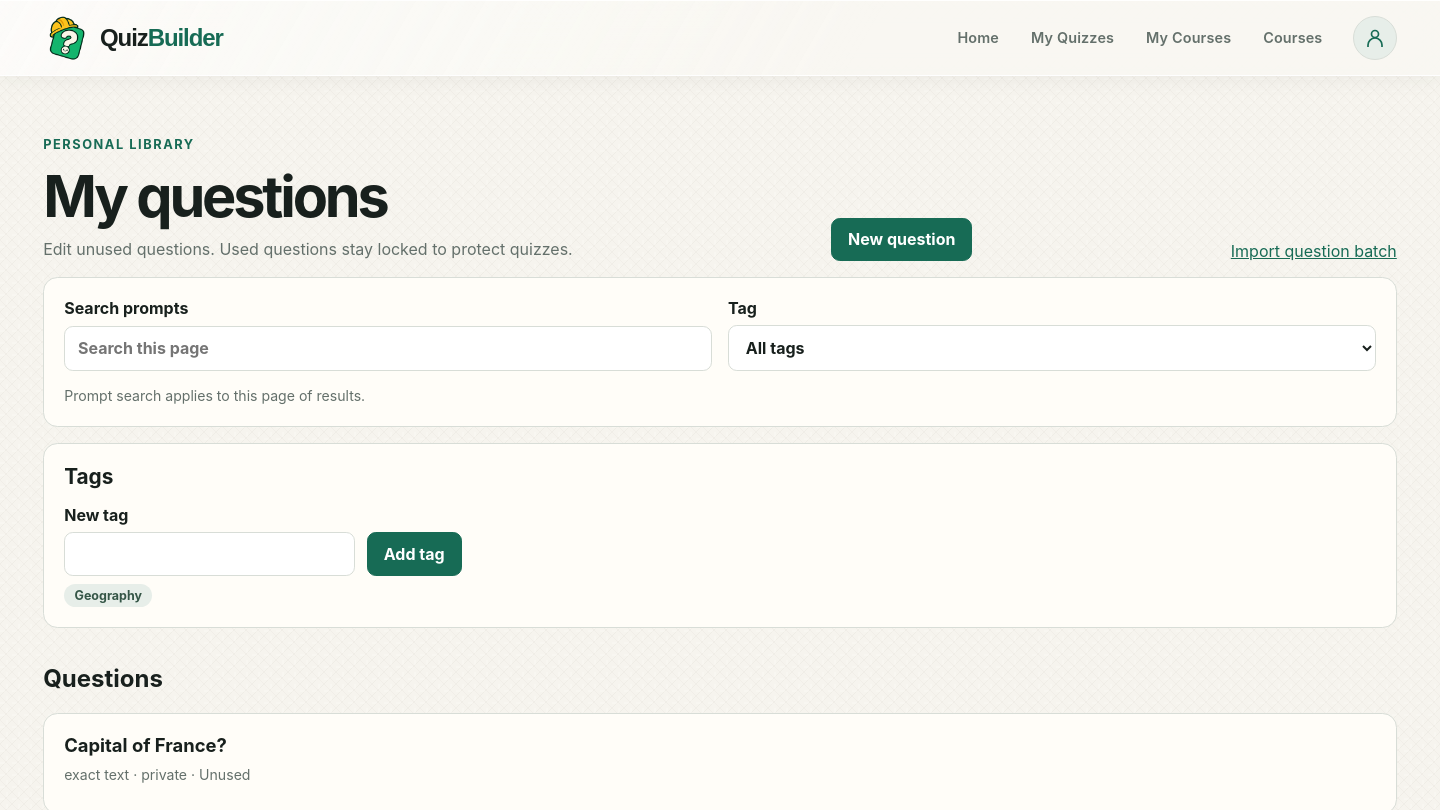
Scenario: lists personal questions with prompt search, tags, and pagination
Expected: the heading "My questions" is shown, [43,161,387,231]
Expected: the link "Capital of France?" is shown, [64,734,227,756]
Type "missing" into the search field labelled "Search prompts" at (388, 348), box [64,326,712,371]
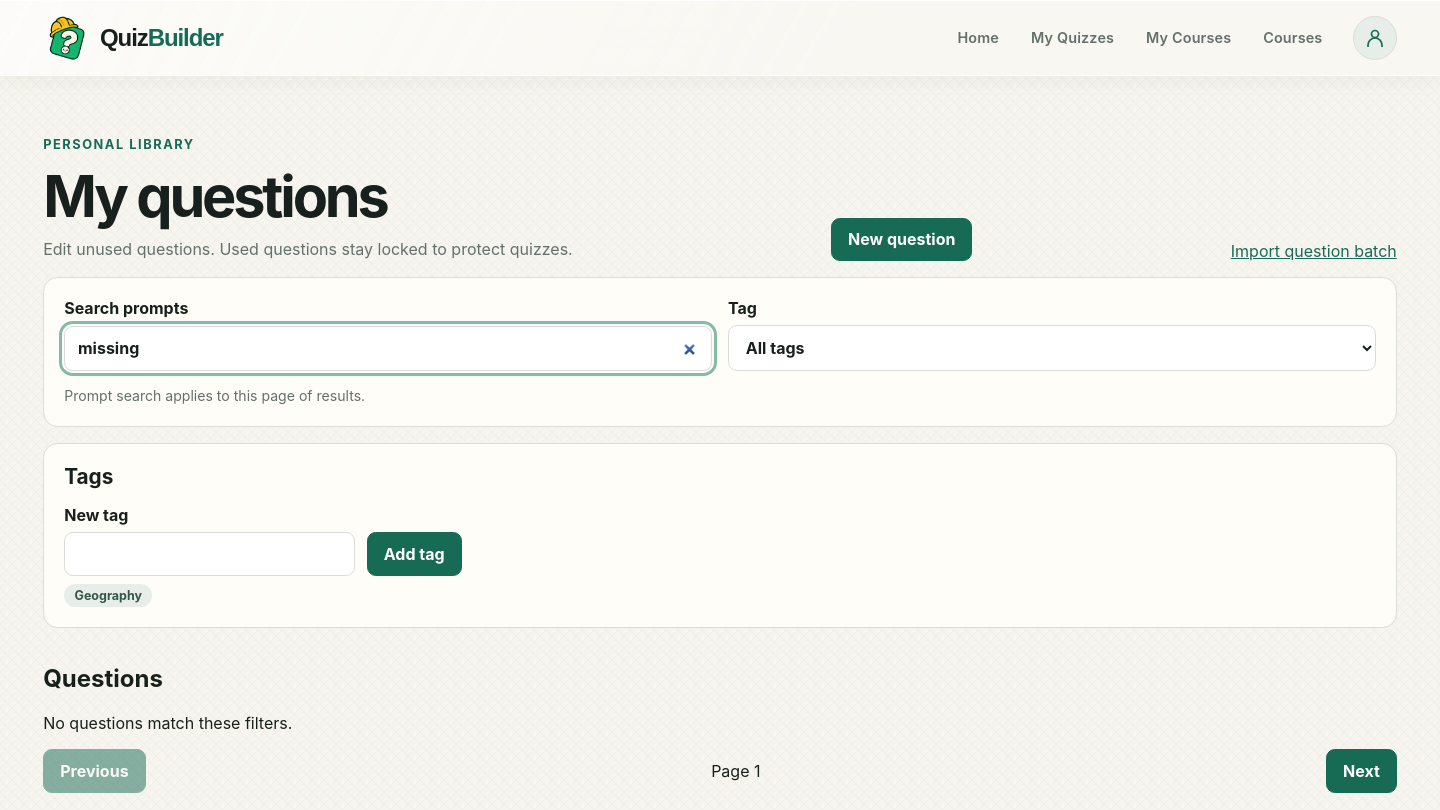
Expected: the link "Capital of France?" is gone
Clear the search field labelled "Search prompts" at (388, 348), box [64,326,712,371]
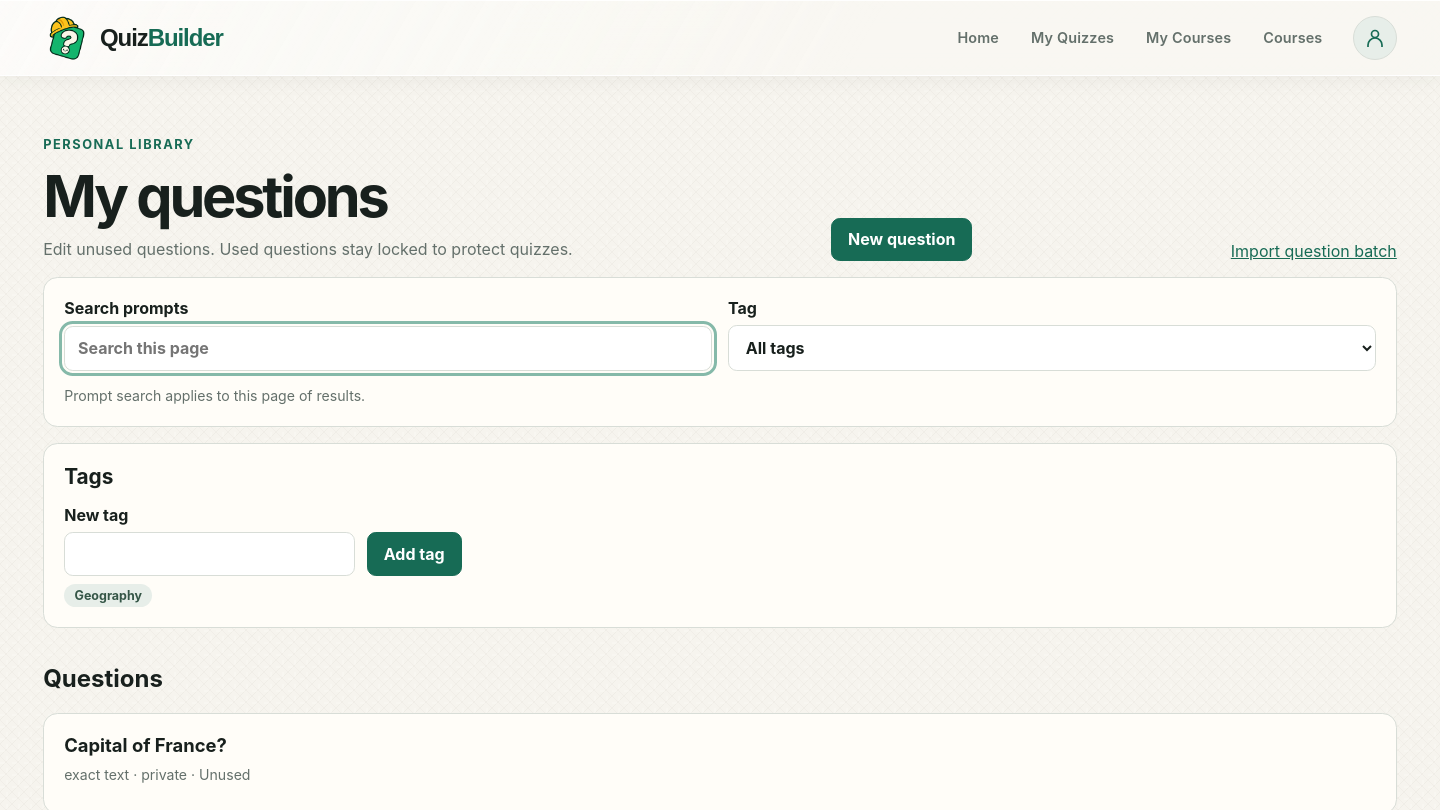
Select "Geography" in the dropdown labelled "Tag" at (1052, 348), box [728,325,1376,371]
(page scrolled)
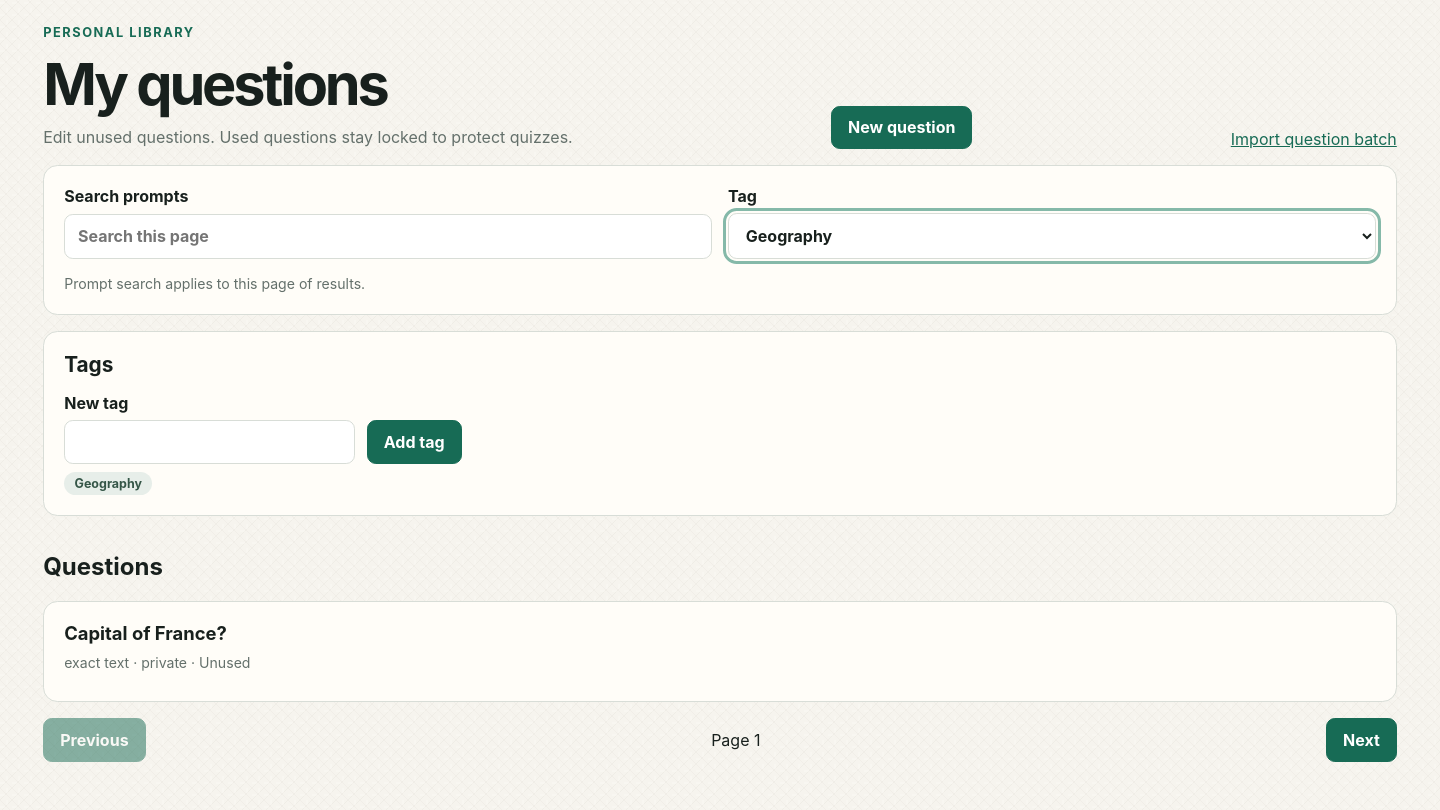
Click the button "Next" at (1361, 740), box [1326,718,1397,762]
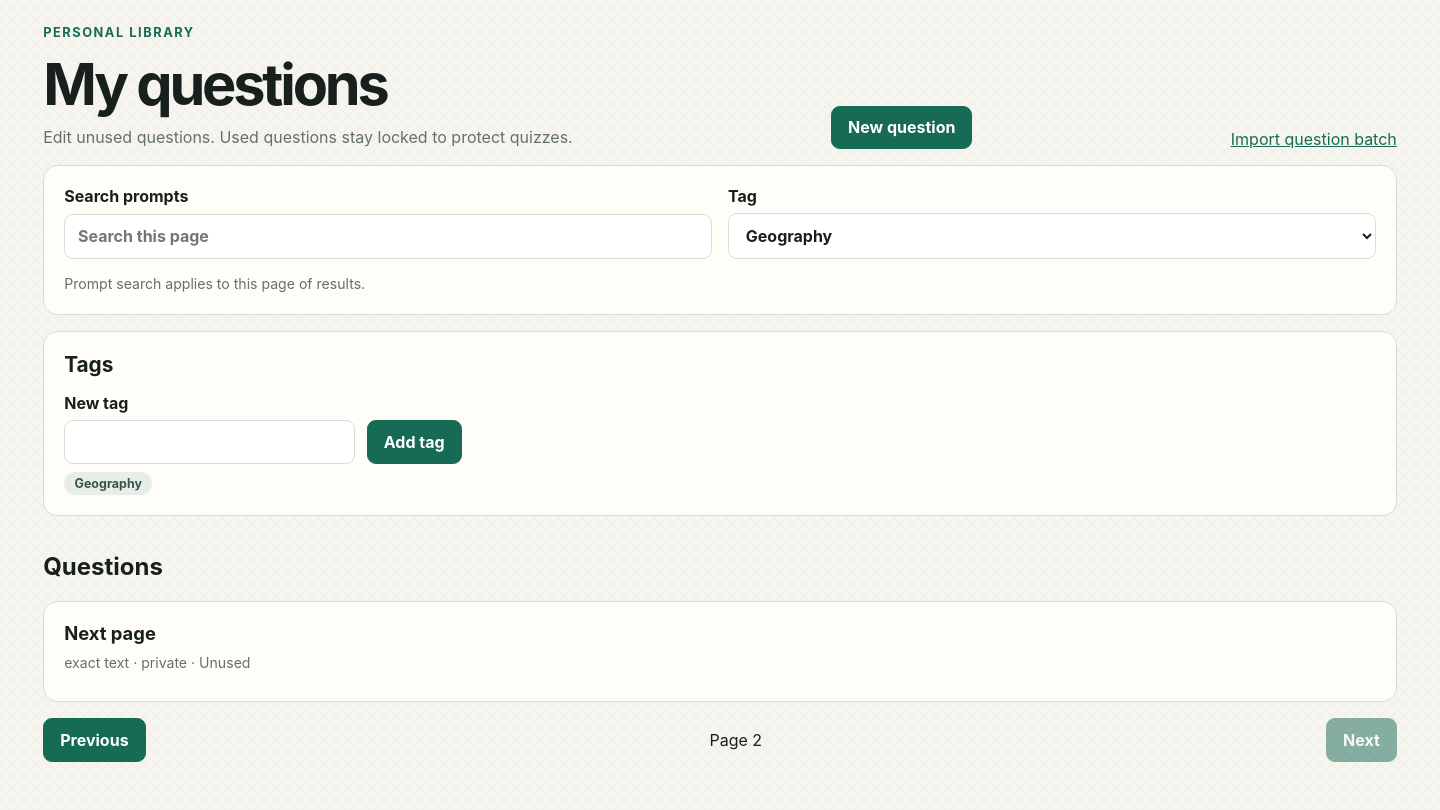
Expected: the link "Next page" is shown, [64,622,156,644]
